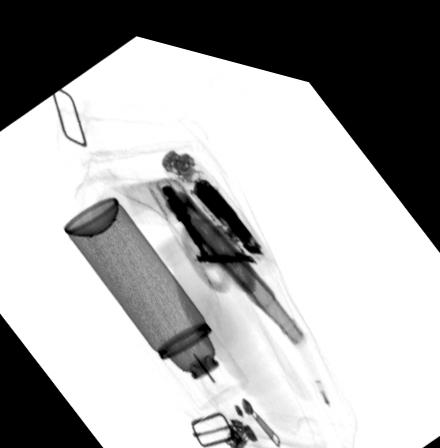Sprayer: (60, 189, 250, 403)
